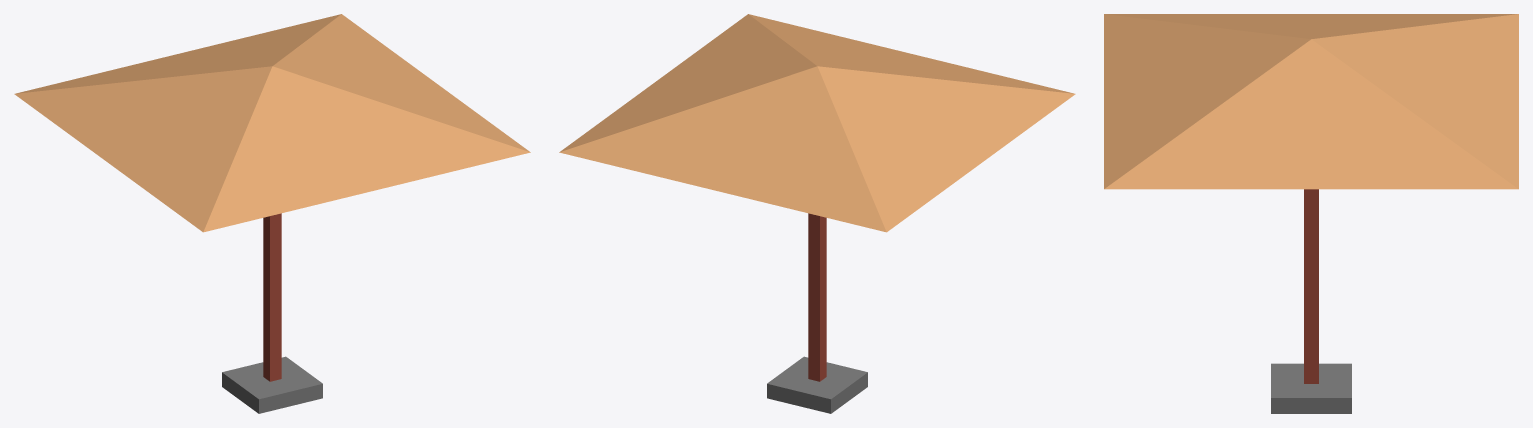
File: Umbrella_03.fbx
The picture shows the model from 3 angles, left to right: view 1: azimuth 30°, elevation 25°; view 2: azimuth 150°, elevation 25°; view 3: azimuth 270°, elevation 25°; orthographic projection. The views are drawn at different scales.
Visible parts, largest first — view 1: Umbrella_03; view 2: Umbrella_03; view 3: Umbrella_03.
Part boxes in pixels (left/top/right/bottom): Umbrella_03: left=14, top=14, right=530, bottom=413; Umbrella_03: left=559, top=14, right=1075, bottom=413; Umbrella_03: left=1104, top=14, right=1518, bottom=413.
Bounding box in the file's own units: 300 × 285 × 300.
